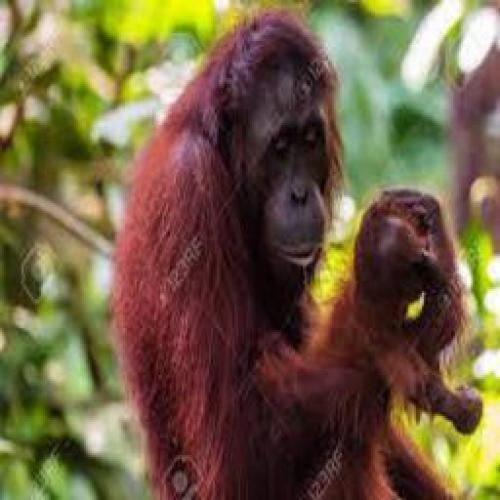orangutan-endangered: (107, 13, 488, 500), (317, 185, 483, 500)
